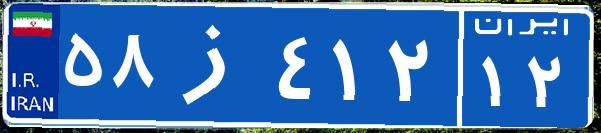1: (330, 28, 385, 110), (475, 38, 525, 113)
2: (385, 28, 445, 110), (525, 38, 570, 115)
4: (273, 28, 330, 110)
5: (57, 26, 110, 107)
8: (110, 28, 158, 105)
ز: (158, 15, 273, 115)
